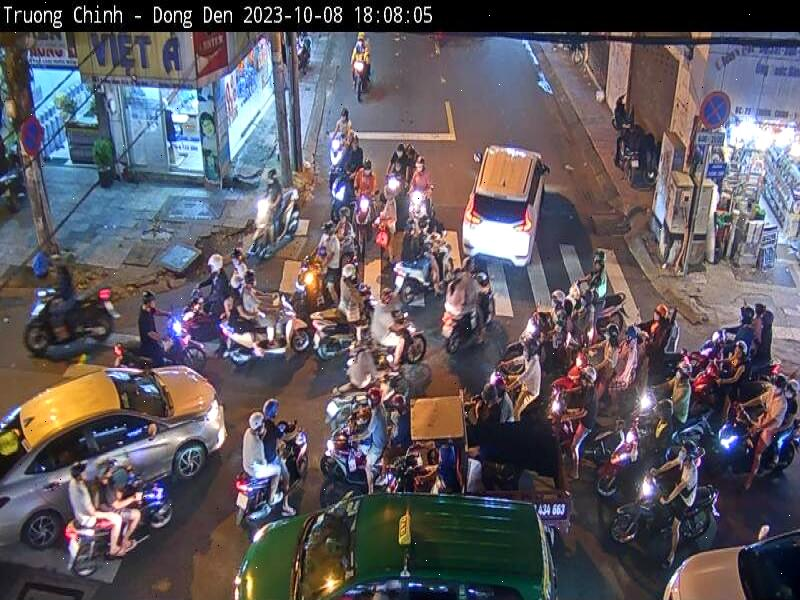car: (1, 363, 228, 562), (236, 488, 555, 600), (461, 142, 551, 275), (659, 520, 800, 600)
motorcycle: (64, 470, 169, 584), (233, 416, 309, 537), (607, 472, 721, 551), (23, 276, 123, 361), (708, 402, 800, 486), (218, 298, 316, 369), (112, 316, 212, 372), (318, 286, 376, 368), (590, 422, 650, 495), (340, 322, 432, 364), (610, 122, 647, 191), (330, 131, 366, 194), (347, 59, 375, 104), (604, 94, 631, 129)
